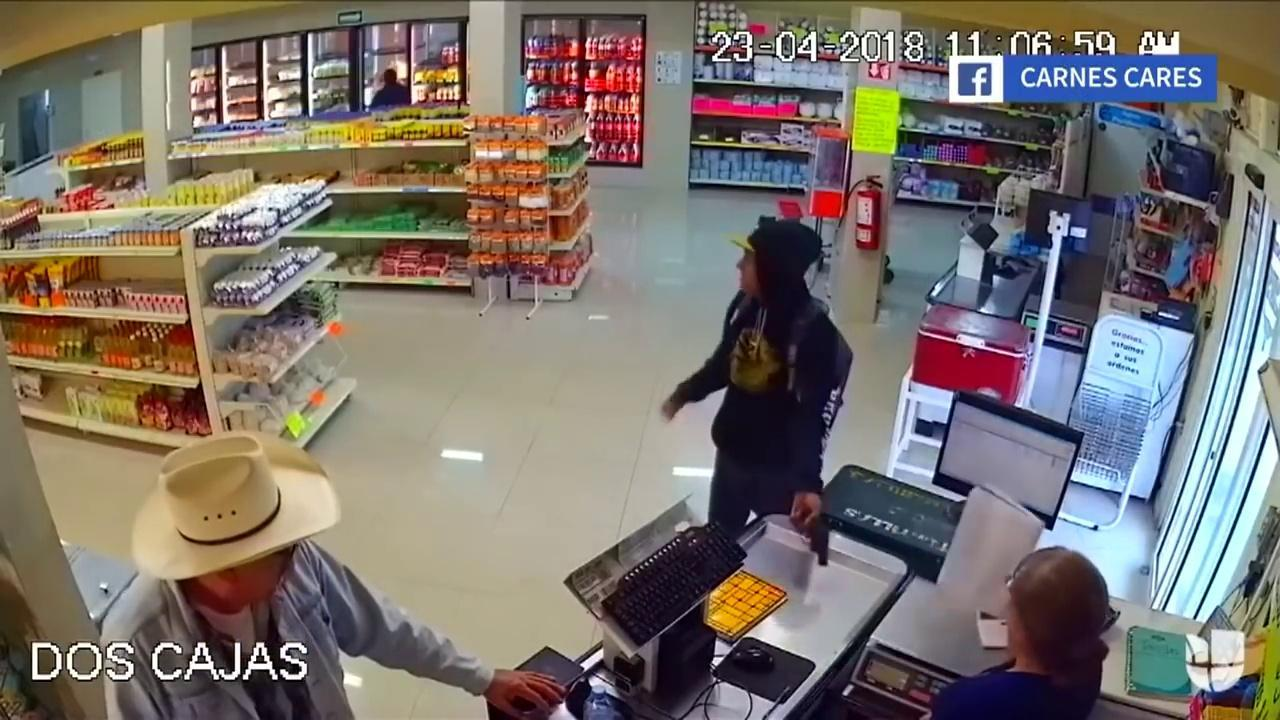Guns perspective: (789, 506, 846, 586)
